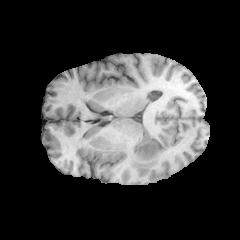glioma: (128, 140, 171, 175)
